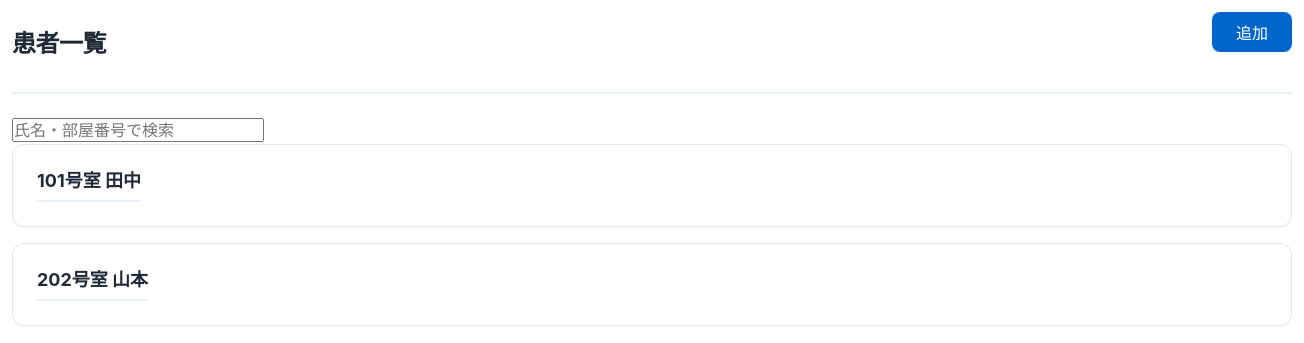
PatientList › 氏名で検索すると一致する患者だけを表示する
Step 1. Type "田中" into the field named "患者検索" → (138, 130), box [12,118,264,142]
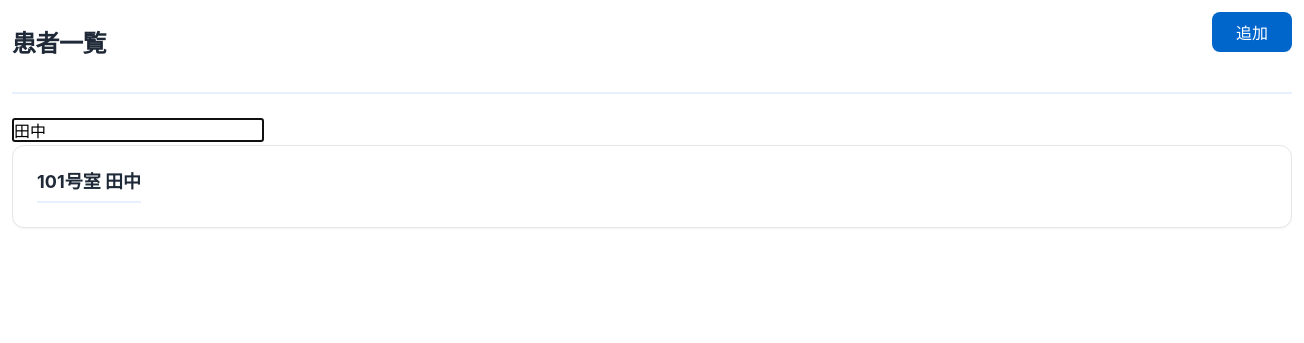
Expected: the heading "101号室 田中" is shown, [37,170,141,203]
Now the heading "202号室 山本" is gone
